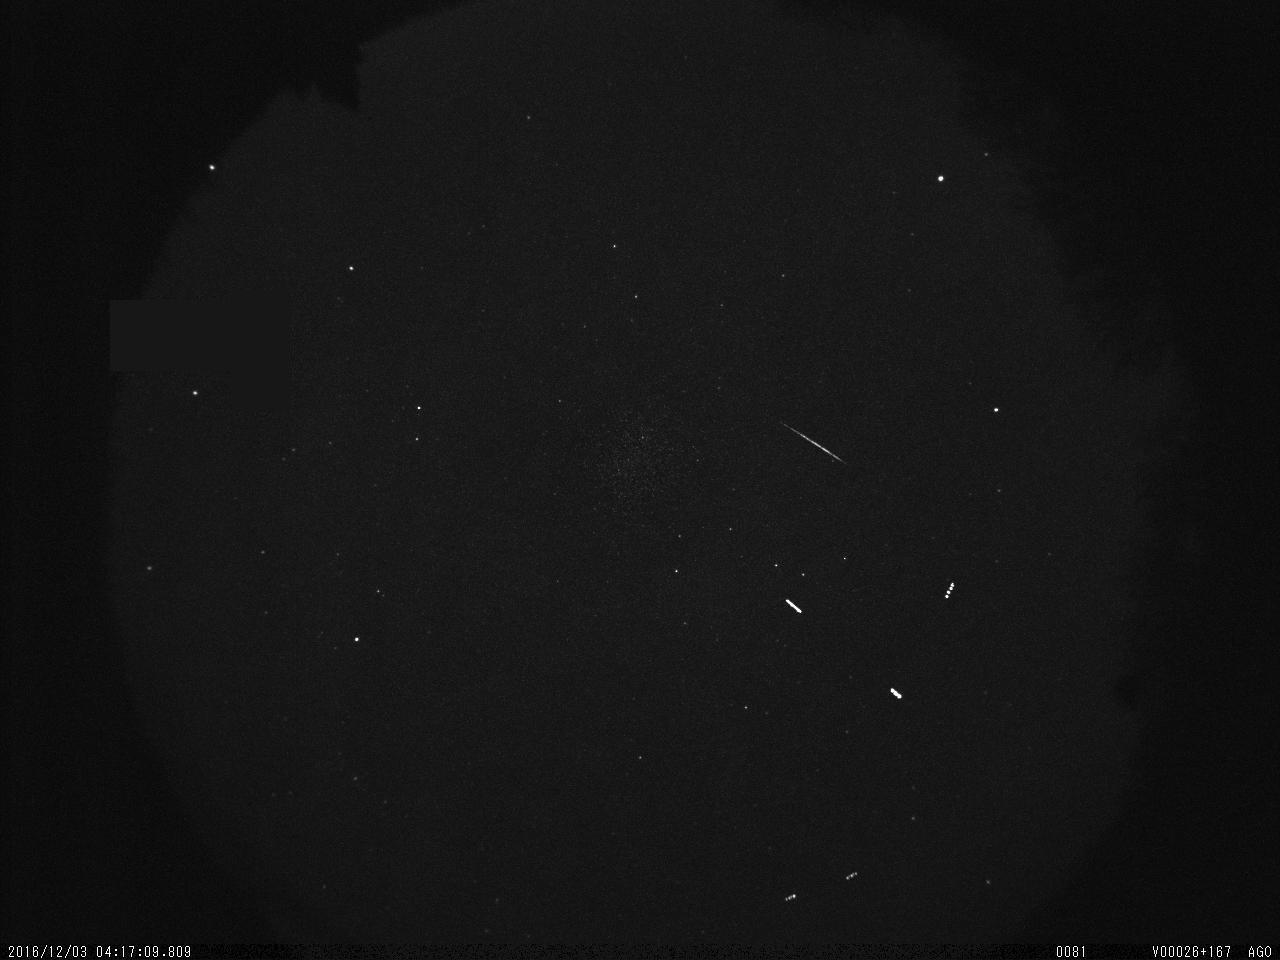meteor: (777, 408, 856, 477)
satelite: (777, 595, 808, 622), (937, 576, 965, 605), (884, 678, 907, 709), (840, 865, 864, 888), (780, 885, 802, 908)
